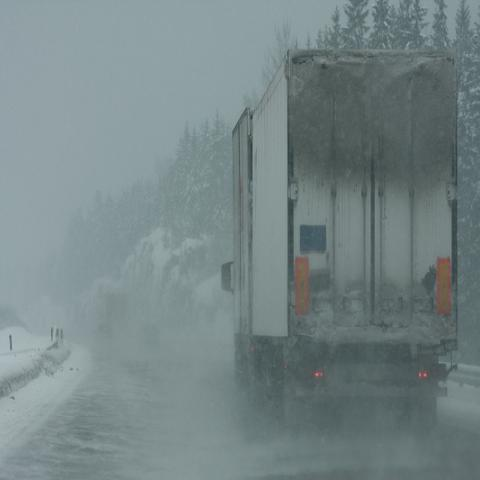truck: (230, 57, 458, 443)
